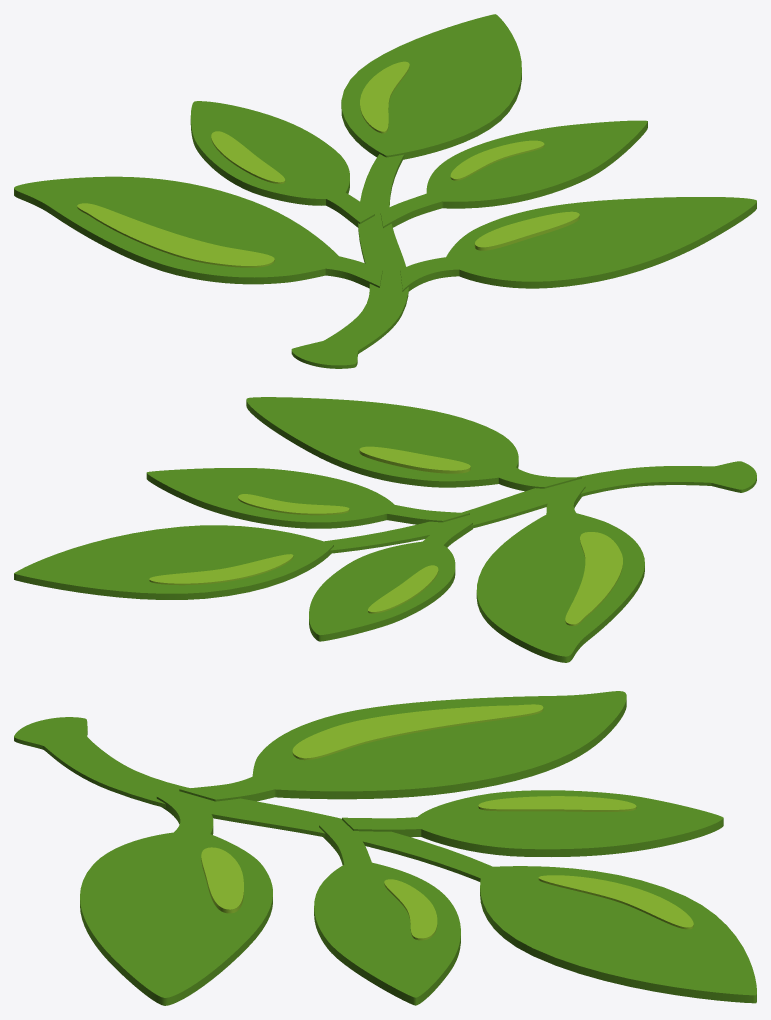
File: emoji_u1f33f.glb
3 views of the same model, one above another, from view 1: azimuth 30°, elevation 25°; view 2: azimuth 150°, elevation 25°; view 3: azimuth 270°, elevation 25° (orthographic). The views are drawn at different scales.
Parts seen in each view (by area): view 1: emoji_u1f33f; view 2: emoji_u1f33f; view 3: emoji_u1f33f.
Part boxes in pixels (x1,y1,x2,y2): emoji_u1f33f: (14, 14, 756, 368); emoji_u1f33f: (14, 397, 756, 662); emoji_u1f33f: (14, 691, 756, 1005).
Size of the model in its own units: 0.0333 by 0.0008 by 0.0341.
